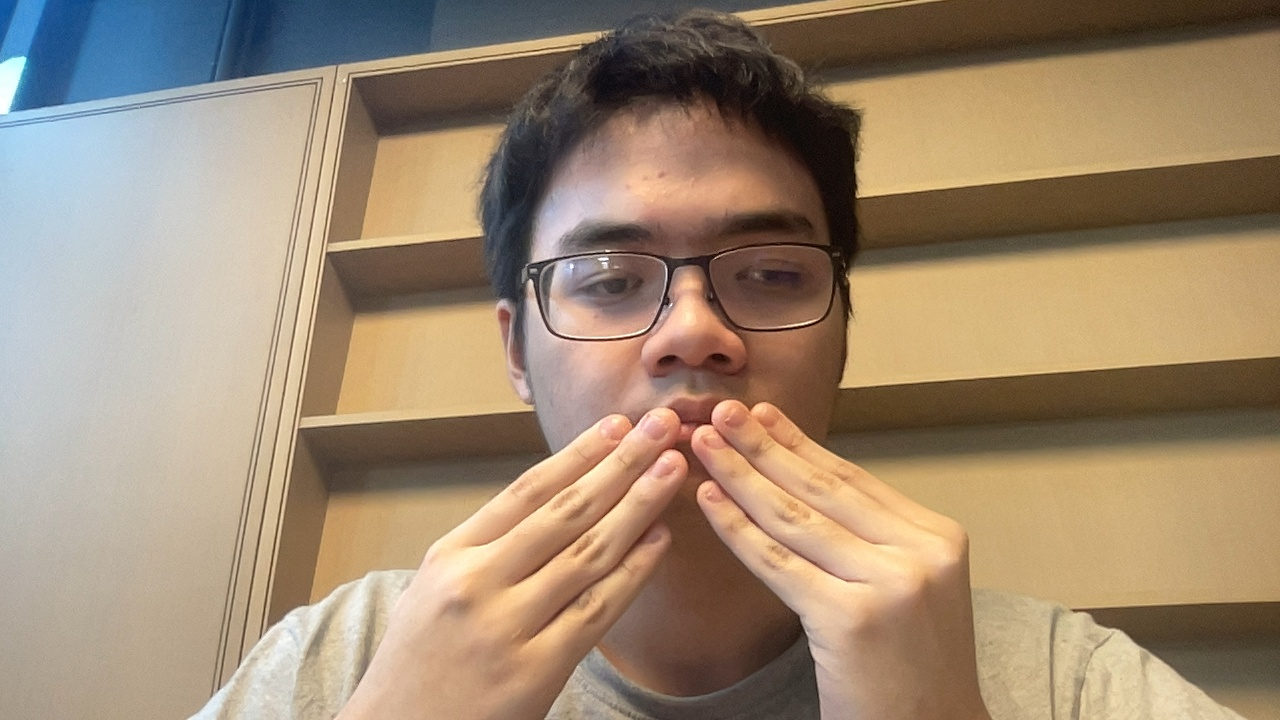thankyou: (403, 388, 1028, 682)
